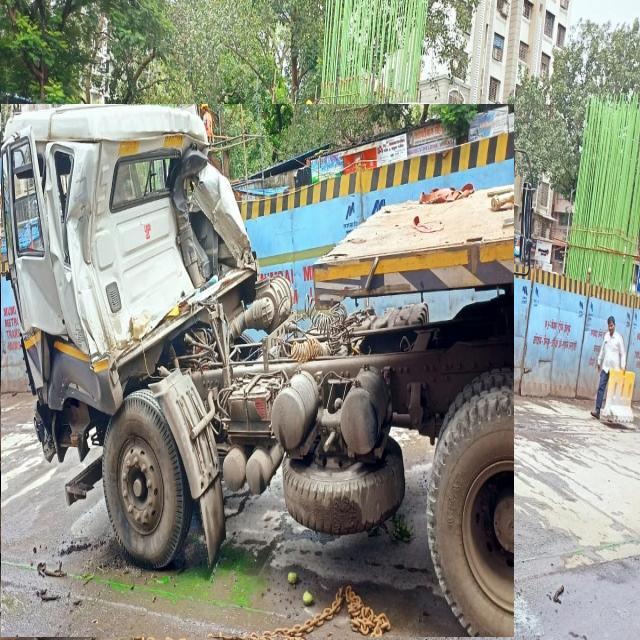accident: (0, 104, 514, 637)
